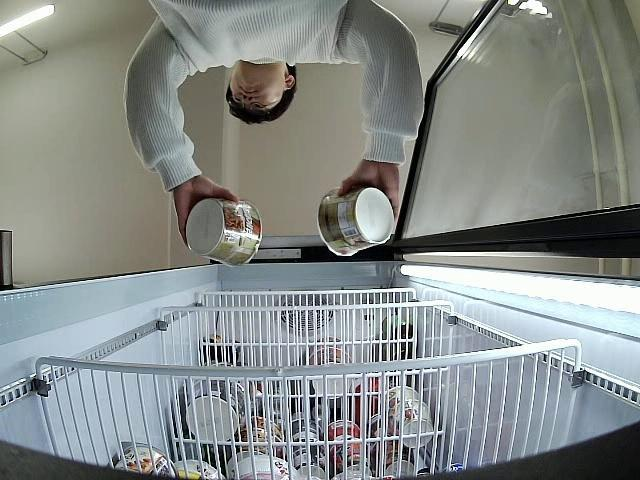03_chapagetti_L: (316, 189, 396, 258), (185, 198, 262, 267)
